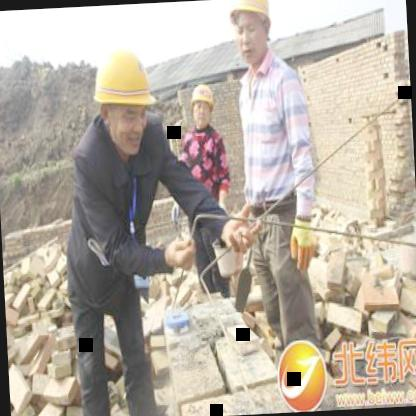helmet: (86, 37, 160, 155), (221, 0, 279, 72), (187, 80, 218, 130)
